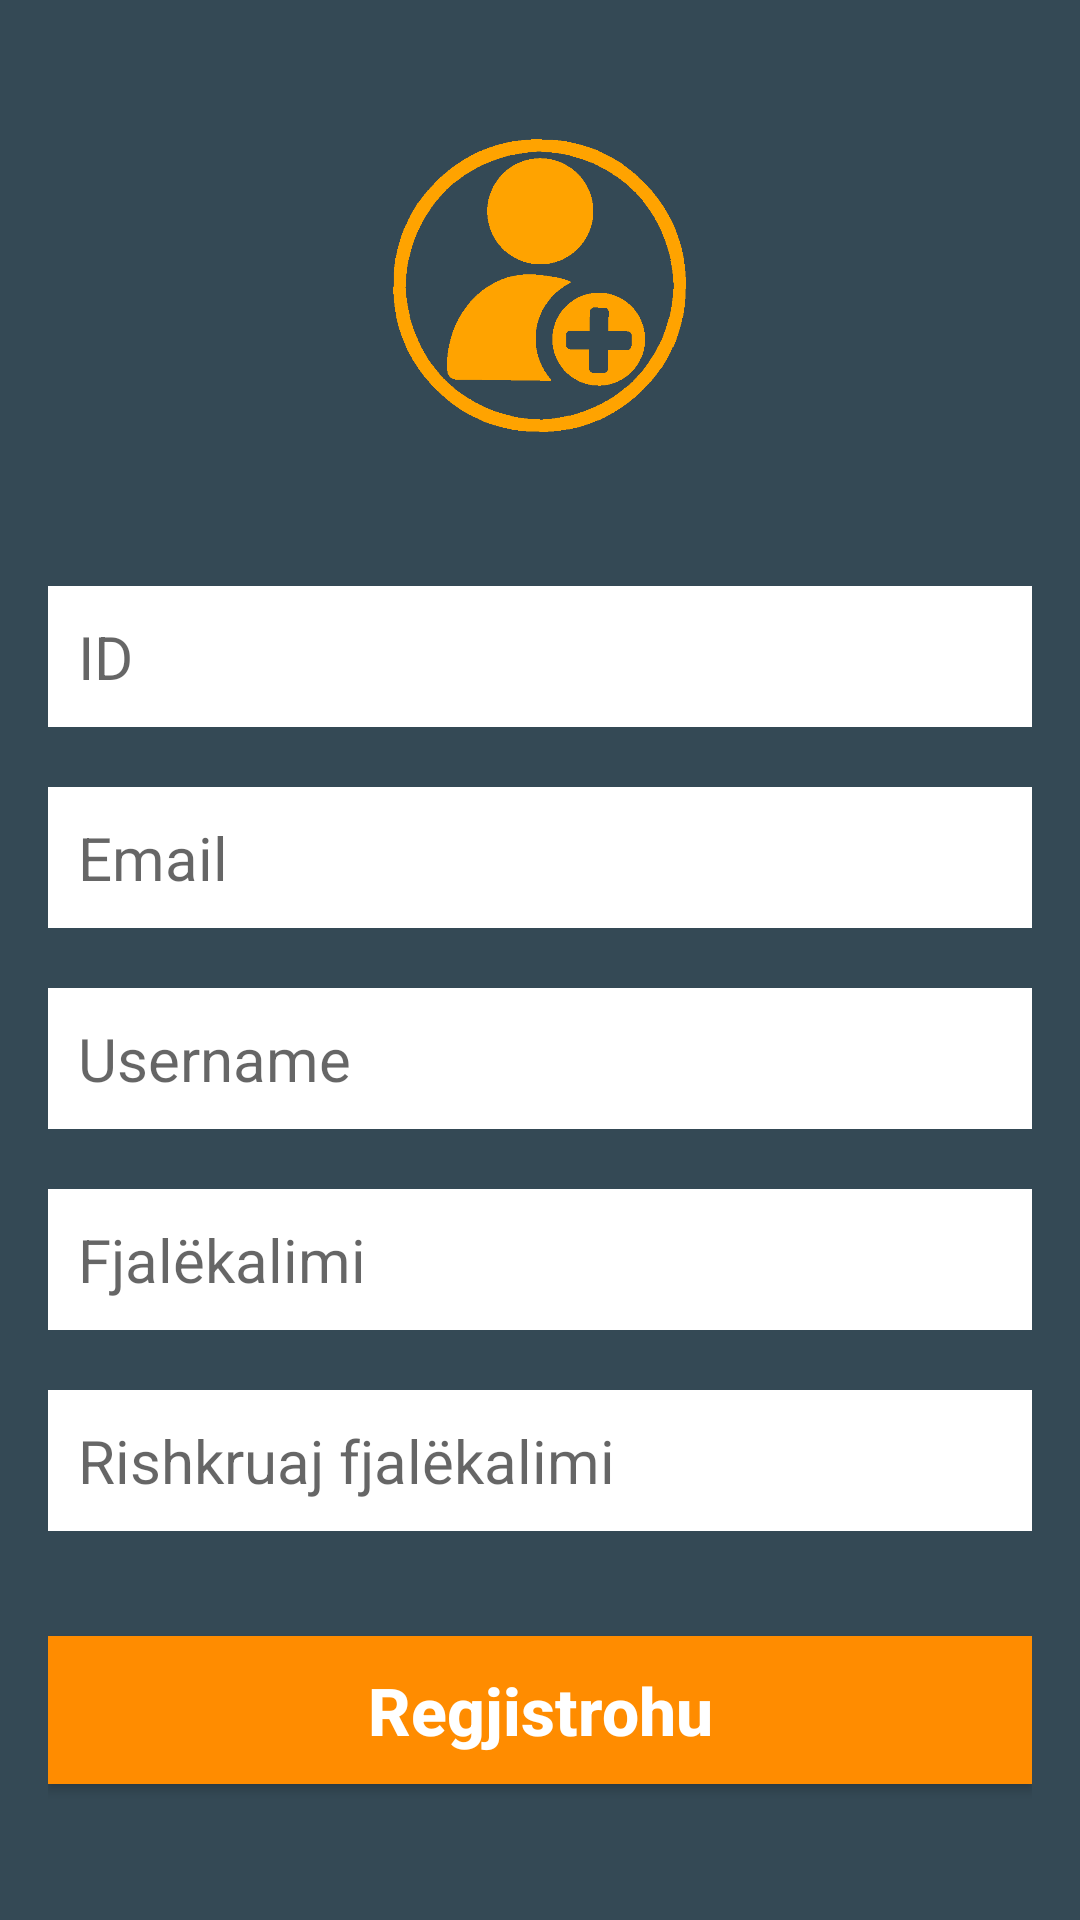

Locate icon controls on the screen. Image size 1080 x 1920, boxes as box(x1, y1, x2, y2).
signupicon: box(393, 139, 686, 432)
